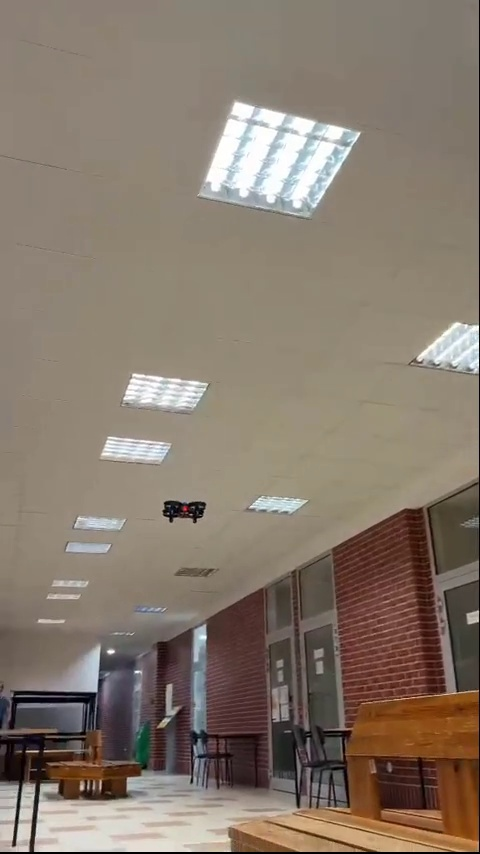drone: (164, 497, 207, 526)
